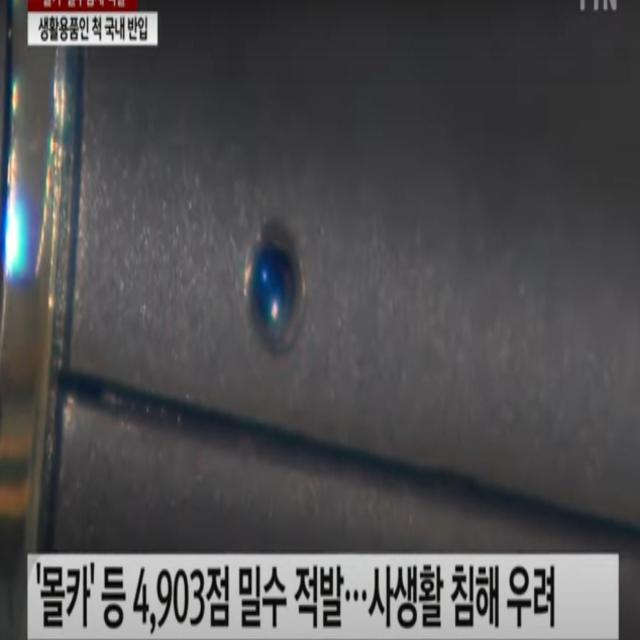hidden camera: (240, 185, 310, 374)
